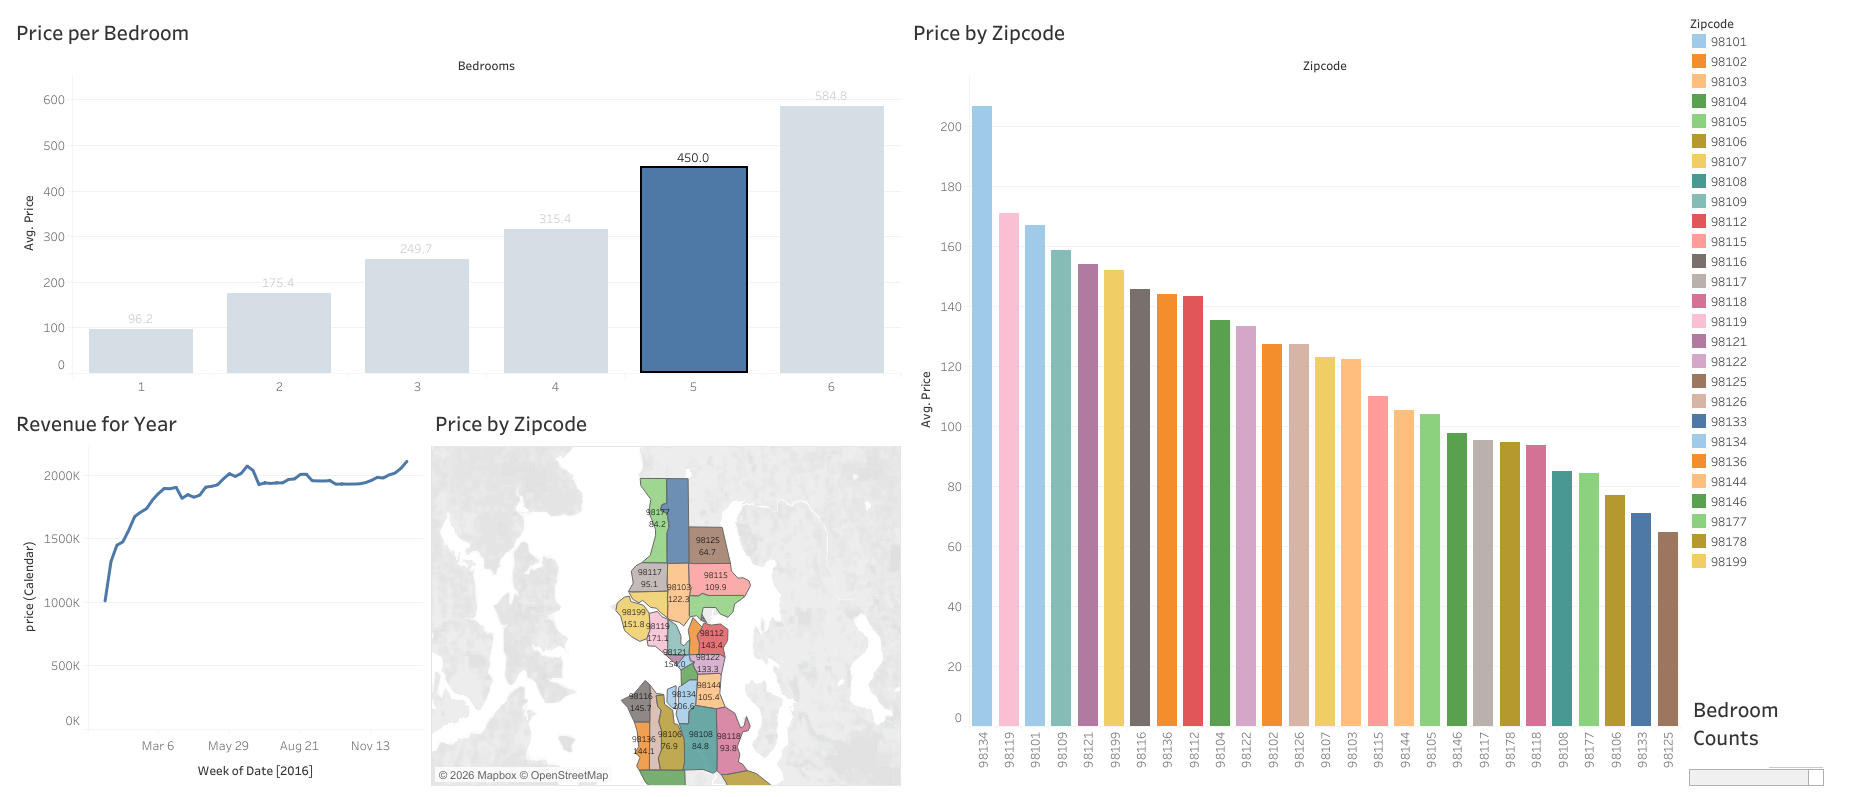

This screenshot's page, from the dashboard's own definition file:
{"tool":"tableau","page":{"name":"Dashboard 1","canvas":[1000,1000],"units":"permille","ordinal":0},"visuals":[{"type":"worksheet","title":"Sheet 4","mark":"Automatic","rows":["price"],"cols":["bedrooms"],"box":[4.7,8.8,479.8,491.2]},{"type":"worksheet","title":"Sheet 1","mark":"Automatic","rows":["price"],"cols":["zipcode"],"box":[484.5,8.8,417.2,982.5]},{"type":"legend","title":"Sheet 1","param":"[federated.1iamoxy0vae86z1295ryh0bhqxag].[none:zipcode:ok]","box":[901.7,8.8,93.6,740.7]},{"type":"worksheet","title":"Sheet 3","mark":"Automatic","rows":["price (Calendar)"],"cols":["date"],"box":[4.7,500,224.2,491.2]},{"type":"worksheet","title":"Sheet 2","mark":"Multipolygon","box":[228.9,500,255.6,491.2]},{"type":"worksheet","title":"Sheet 5","mark":"Automatic","rows":["bedrooms"],"box":[901.7,749.5,93.6,240.7]}]}

Visuals, with their boxes on the dashboard's canvas, which has no fixed pixel size, in thousandths of its width and height (x1, y1, x2, y2). These are canvas units, not pixel positions in the 1852x797 screenshot, which may show the page scaled, cropped or inside an application window:
"Sheet 4" worksheet: [x1=5, y1=9, x2=484, y2=500]
"Sheet 1" worksheet: [x1=484, y1=9, x2=902, y2=991]
"Sheet 1" legend: [x1=902, y1=9, x2=995, y2=750]
"Sheet 3" worksheet: [x1=5, y1=500, x2=229, y2=991]
"Sheet 2" worksheet (Multipolygon marks): [x1=229, y1=500, x2=484, y2=991]
"Sheet 5" worksheet: [x1=902, y1=750, x2=995, y2=990]
